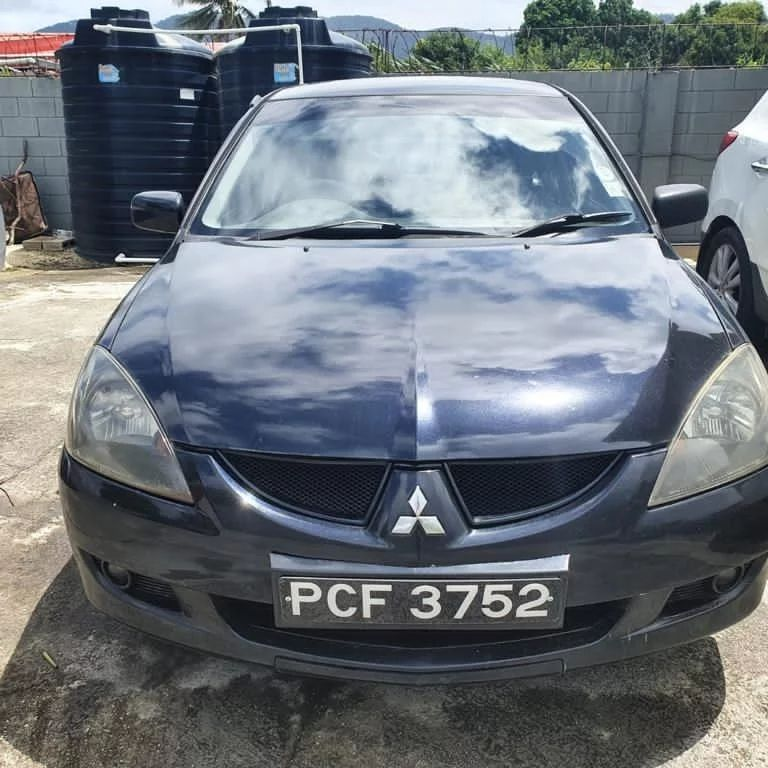License-Plate: (282, 576, 559, 622)
